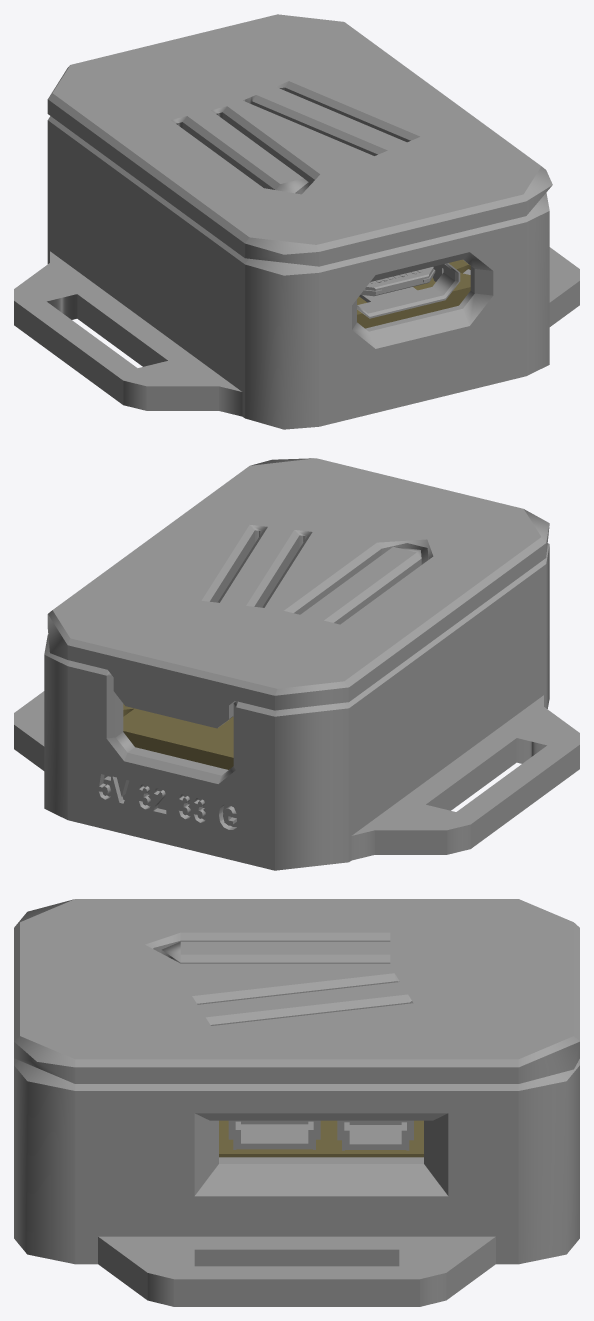
The model's file is ada-6299.glb.
The picture shows the model from 3 angles, top to bottom: view 1: azimuth 30°, elevation 25°; view 2: azimuth 150°, elevation 25°; view 3: azimuth 270°, elevation 25°; orthographic projection. The views are drawn at different scales.
Visible parts, largest first — view 1: 0.3333333333333333_0.3333333333333333_0.3333333333333333_0, 0.16666666666666666_0.16666666666666666_0.08333333333333333_; view 2: 0.3333333333333333_0.3333333333333333_0.3333333333333333_0, 0.16666666666666666_0.16666666666666666_0.08333333333333333_; view 3: 0.3333333333333333_0.3333333333333333_0.3333333333333333_0, 0.16666666666666666_0.16666666666666666_0.08333333333333333_.
Part boxes in pixels (x1=…): 0.3333333333333333_0.3333333333333333_0.3333333333333333_0: x1=14, y1=14, x2=579, y2=429; 0.16666666666666666_0.16666666666666666_0.08333333333333333_: x1=357, y1=259, x2=470, y2=328; 0.3333333333333333_0.3333333333333333_0.3333333333333333_0: x1=14, y1=458, x2=579, y2=870; 0.16666666666666666_0.16666666666666666_0.08333333333333333_: x1=123, y1=704, x2=233, y2=769; 0.3333333333333333_0.3333333333333333_0.3333333333333333_0: x1=14, y1=899, x2=579, y2=1306; 0.16666666666666666_0.16666666666666666_0.08333333333333333_: x1=219, y1=1120, x2=423, y2=1157.
Size of the model in its own units: 3.88 by 1.46 by 3.7.
